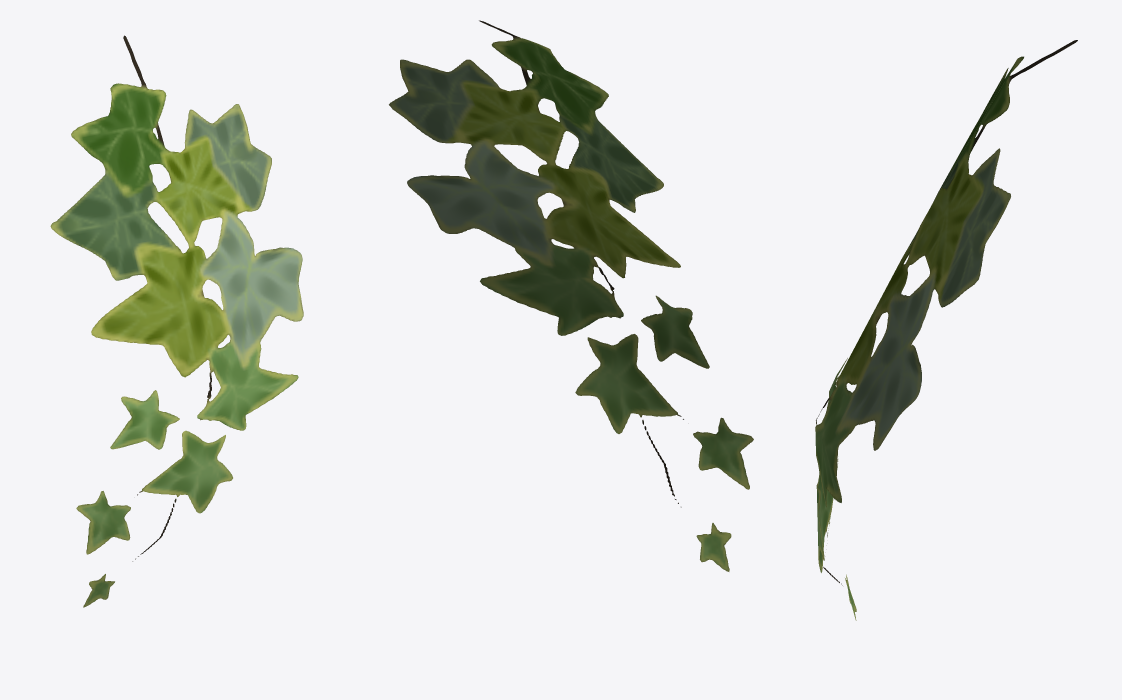
Rendered from ivy_001.fbx.
3 renders of one model, left to right at view 1: azimuth 30°, elevation 25°; view 2: azimuth 150°, elevation 25°; view 3: azimuth 270°, elevation 25°, orthographic. The views are drawn at different scales.
Visible parts, largest first — view 1: Ivy_001; view 2: Ivy_001; view 3: Ivy_001.
Boxes of the visible parts, x1=… form: Ivy_001: x1=50, y1=35, x2=303, y2=607; Ivy_001: x1=389, y1=20, x2=753, y2=571; Ivy_001: x1=815, y1=40, x2=1077, y2=620.
Size of the model in its own units: 2.24 by 3.98 by 1.36.
1 material, 1 textured.
